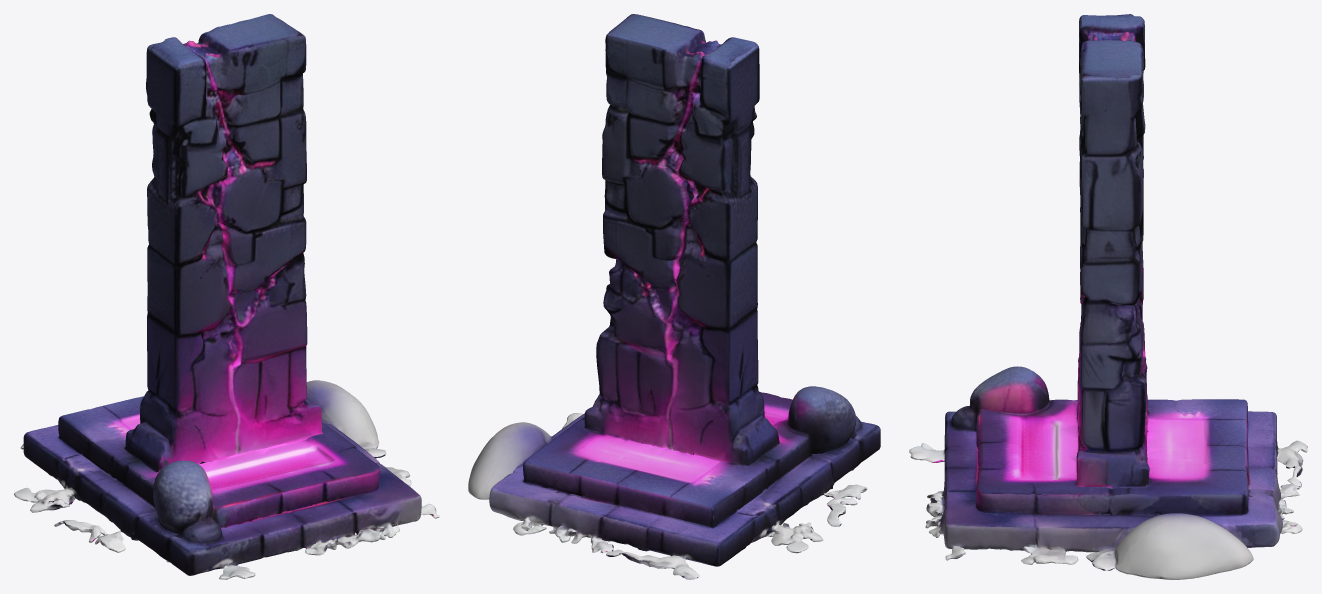
Rendered from support-column-generated-2026-05-17T18-39-33-622Z.high.glb.
The picture shows the model from 3 angles, left to right: view 1: azimuth 30°, elevation 25°; view 2: azimuth 150°, elevation 25°; view 3: azimuth 270°, elevation 25°; orthographic projection.
Visible parts, largest first — view 1: temp_mesh.ply; view 2: temp_mesh.ply; view 3: temp_mesh.ply.
Boxes of the visible parts, bbox=[...] form: temp_mesh.ply: bbox=[14, 14, 439, 579]; temp_mesh.ply: bbox=[468, 14, 880, 579]; temp_mesh.ply: bbox=[909, 14, 1307, 579].
Size of the model in its own units: 1.56 by 1.98 by 1.57.
Materials: 1 (1 with a texture image).
